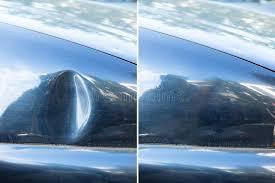dent: (31, 65, 94, 145)
